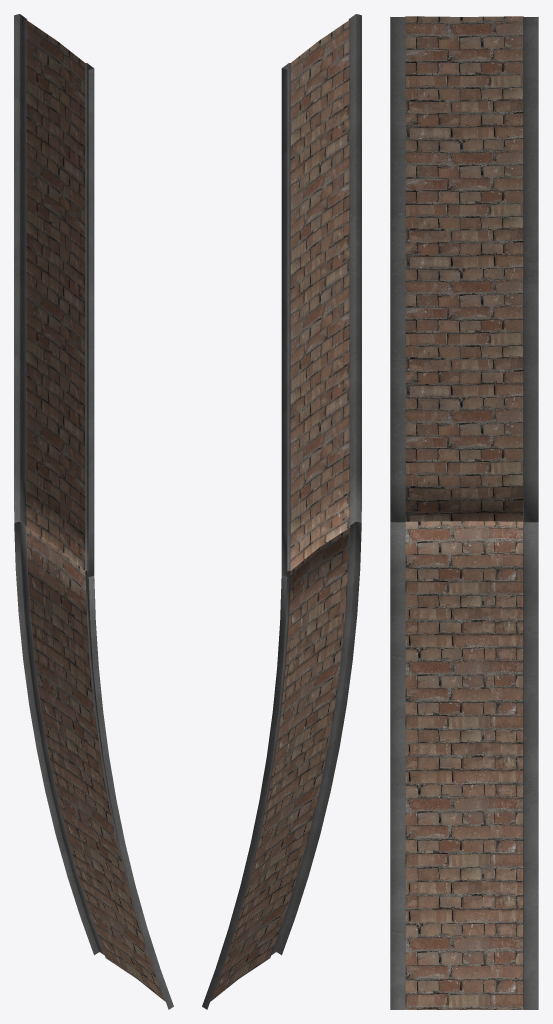
Rendered from cP_Pathway01_StraightCurveUp.dae.
3 renders of one model, left to right at view 1: azimuth 30°, elevation 25°; view 2: azimuth 150°, elevation 25°; view 3: azimuth 270°, elevation 25°, orthographic.
Parts seen in each view (by area): view 1: cP_Pathway01_StraightCurveUp.001; view 2: cP_Pathway01_StraightCurveUp.001; view 3: cP_Pathway01_StraightCurveUp.001.
Part boxes in pixels (x1,y1,x2,y2): cP_Pathway01_StraightCurveUp.001: (14,14,173,1009); cP_Pathway01_StraightCurveUp.001: (202,14,361,1009); cP_Pathway01_StraightCurveUp.001: (390,16,538,1009).
Size of the model in its own units: 1.3 by 1.95 by 13.87.
